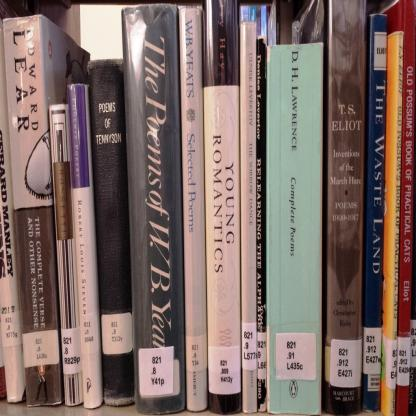book: (0, 2, 244, 416), (288, 0, 416, 416), (237, 21, 332, 409), (123, 3, 178, 416)
